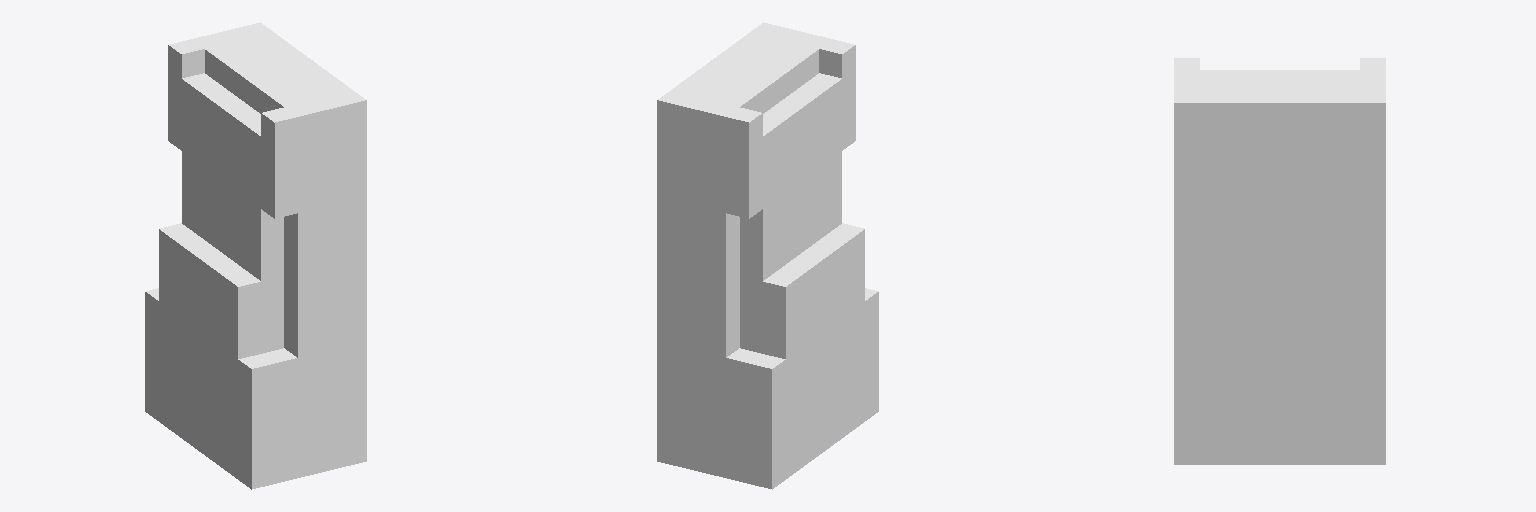
Rendered from enemy_b2_arm.obj.
3 renders of one model, left to right at view 1: azimuth 30°, elevation 25°; view 2: azimuth 150°, elevation 25°; view 3: azimuth 270°, elevation 25°, orthographic.
Parts seen in each view (by area): view 1: object 1; view 2: object 1; view 3: object 1.
Part boxes in pixels (x1,y1,x2,y2): object 1: (145,22,366,489); object 1: (657,22,878,489); object 1: (1174,58,1385,464).
Size of the model in its own units: 0.5 by 1.5 by 0.8.